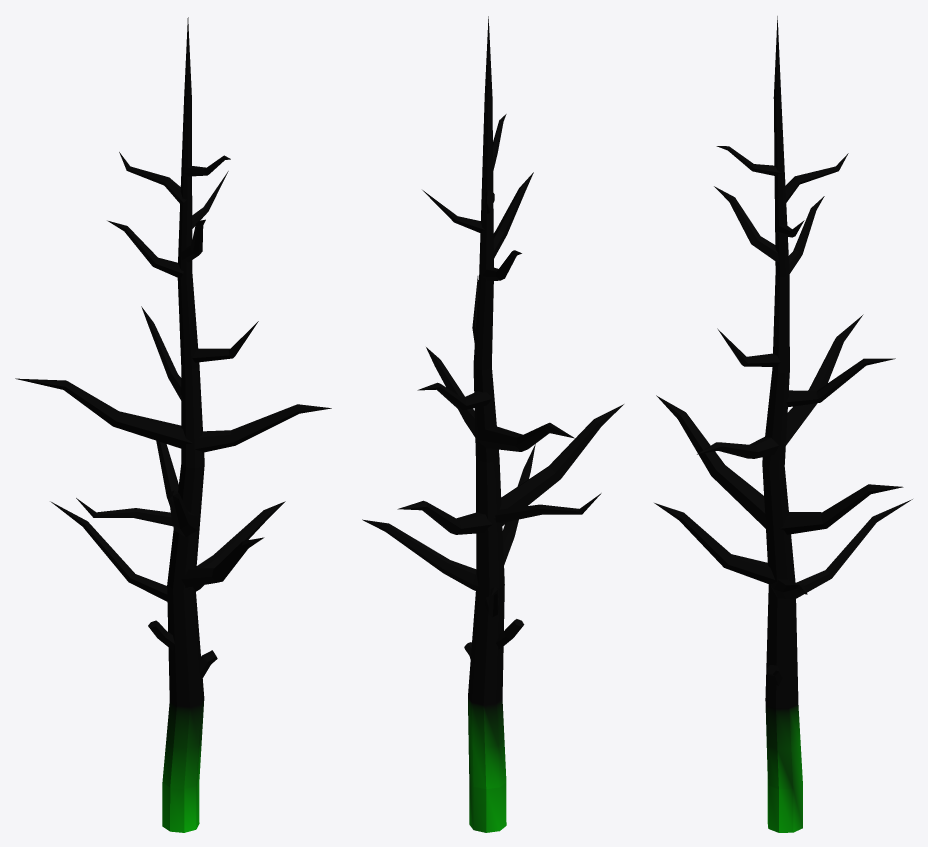
The model's file is SM_Collision_FirTree3.fbx.
3 views of the same model, side by side, from view 1: azimuth 30°, elevation 25°; view 2: azimuth 150°, elevation 25°; view 3: azimuth 270°, elevation 25° (orthographic).
Visible parts, largest first — view 1: Collision_FirTree3; view 2: Collision_FirTree3; view 3: Collision_FirTree3.
Boxes of the visible parts, left/top/right/bottom form: Collision_FirTree3: left=15, top=17, right=331, bottom=832; Collision_FirTree3: left=362, top=16, right=623, bottom=832; Collision_FirTree3: left=654, top=16, right=912, bottom=832.
Bounding box in the file's own units: 347 × 321 × 1105.
